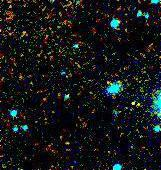star: (120, 91, 150, 121)
